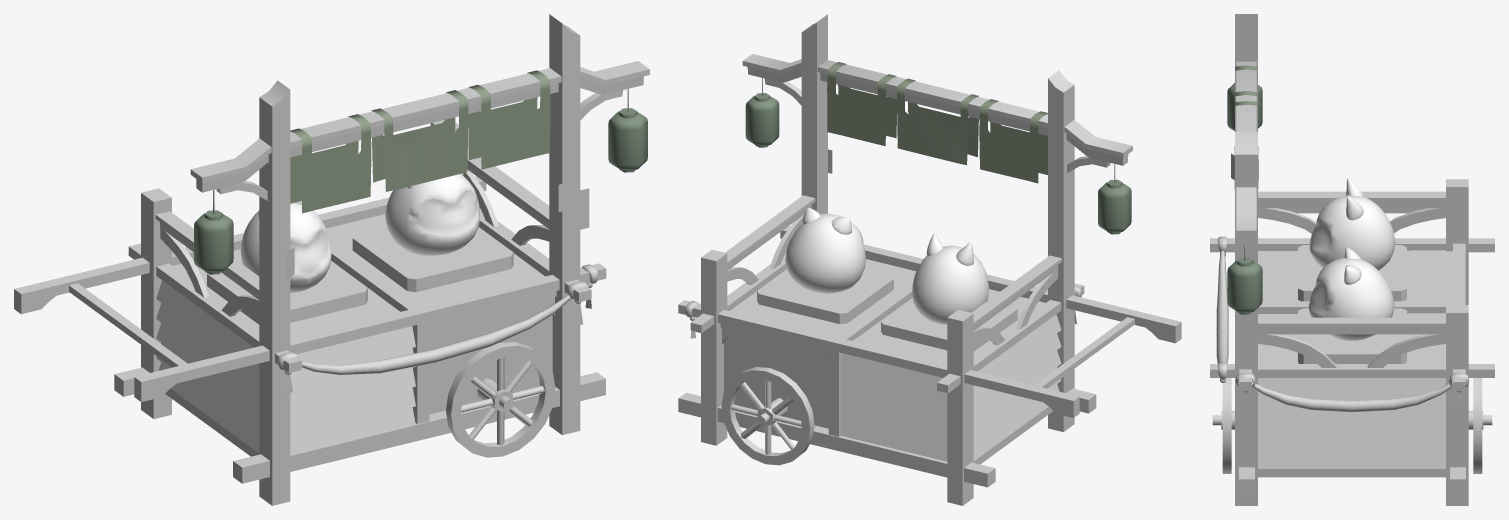
Rendered from Festival _Kiban_ Store.fbx.
3 views of the same model, side by side, from view 1: azimuth 30°, elevation 25°; view 2: azimuth 150°, elevation 25°; view 3: azimuth 270°, elevation 25° (orthographic). The views are drawn at different scales.
Visible parts, largest first — view 1: Festival "Kiban" Store; view 2: Festival "Kiban" Store; view 3: Festival "Kiban" Store.
Boxes of the visible parts, x1=… form: Festival "Kiban" Store: x1=14, y1=14, x2=649, y2=505; Festival "Kiban" Store: x1=678, y1=14, x2=1181, y2=505; Festival "Kiban" Store: x1=1210, y1=14, x2=1494, y2=505.
Size of the model in its own units: 3.79 by 2.95 by 2.08.
